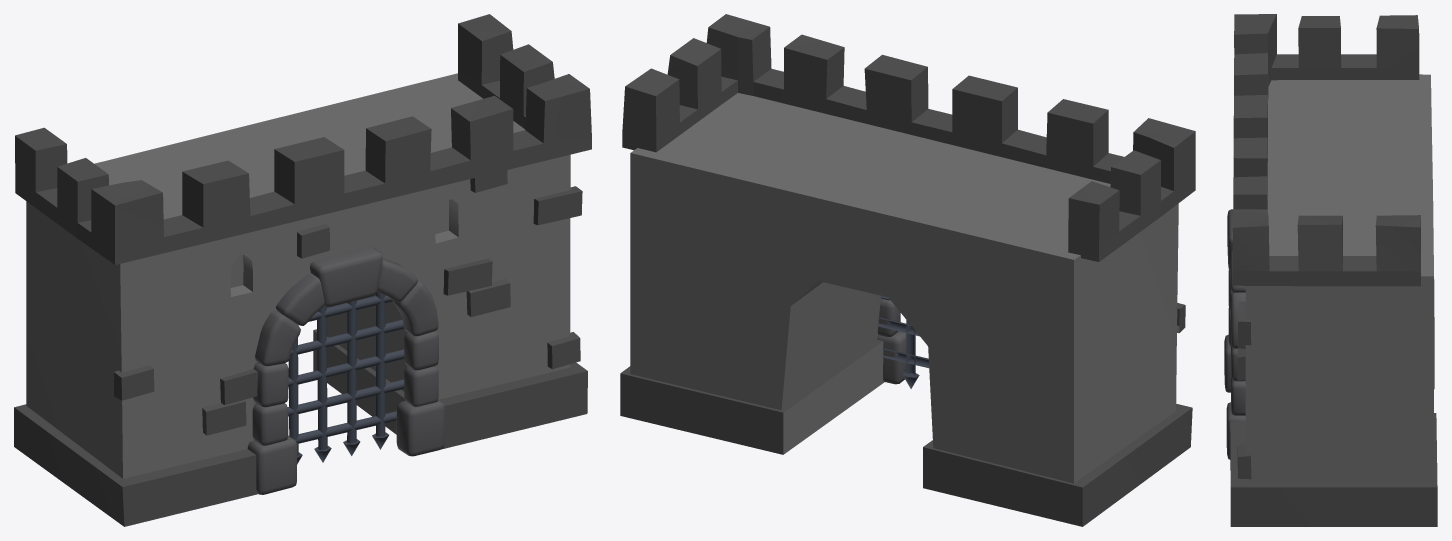
The model's file is Ruins_Wall_01.fbx.
3 views of the same model, side by side, from view 1: azimuth 30°, elevation 25°; view 2: azimuth 150°, elevation 25°; view 3: azimuth 270°, elevation 25° (orthographic). The views are drawn at different scales.
Parts seen in each view (by area): view 1: Ruins_Wall_01, Cage; view 2: Ruins_Wall_01, Cage; view 3: Ruins_Wall_01.
Part boxes in pixels (box(x1,y1,x2,y2)): Ruins_Wall_01: box(14, 14, 591, 526); Cage: box(287, 291, 404, 464); Ruins_Wall_01: box(620, 14, 1195, 526); Cage: box(877, 295, 929, 388); Ruins_Wall_01: box(1224, 14, 1437, 526).
Size of the model in its own units: 707 by 460 by 293.
